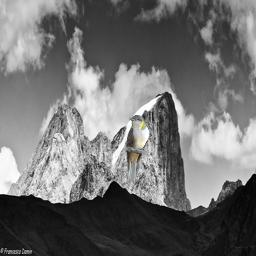Cuckoo: (125, 115, 149, 181)
